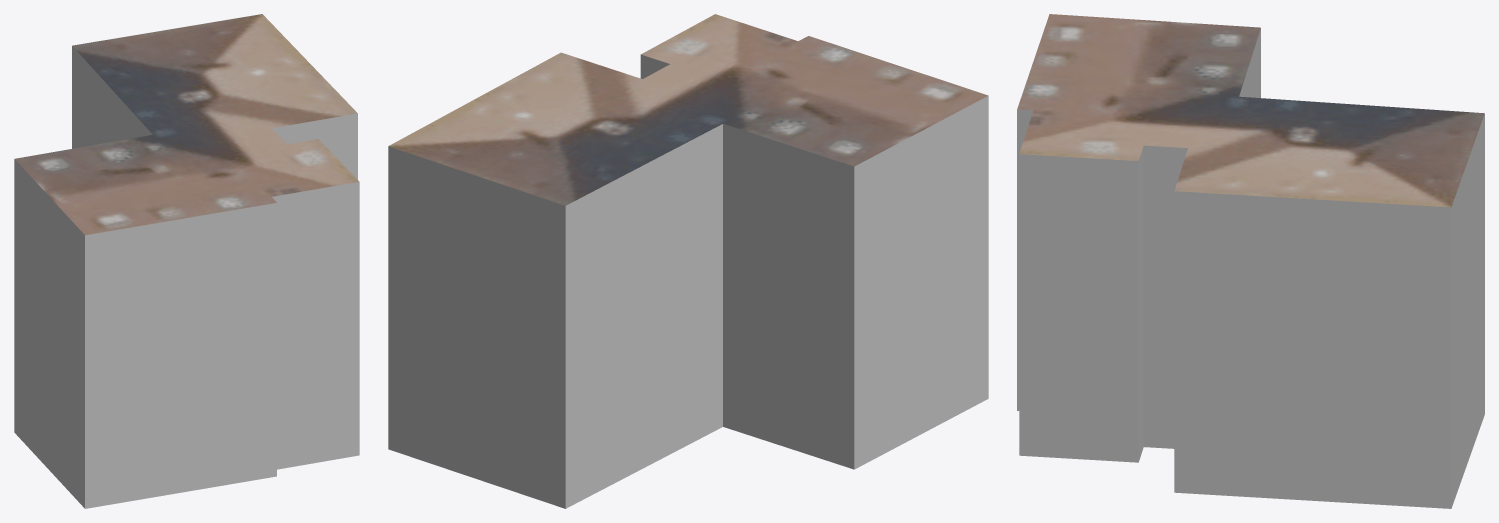
Rendered from DEBW_0010007TxbQ.gltf.
The picture shows the model from 3 angles, left to right: view 1: azimuth 30°, elevation 25°; view 2: azimuth 150°, elevation 25°; view 3: azimuth 270°, elevation 25°; orthographic projection. The views are drawn at different scales.
Parts seen in each view (by area): view 1: Z_UP; view 2: Z_UP; view 3: Z_UP.
Boxes of the visible parts, x1,y1,x2,y2 form: Z_UP: [14, 14, 359, 508]; Z_UP: [388, 14, 988, 508]; Z_UP: [1017, 14, 1484, 508].
Bounding box in the file's own units: 22.48 × 16.34 × 22.97.
2 materials, 1 textured.
